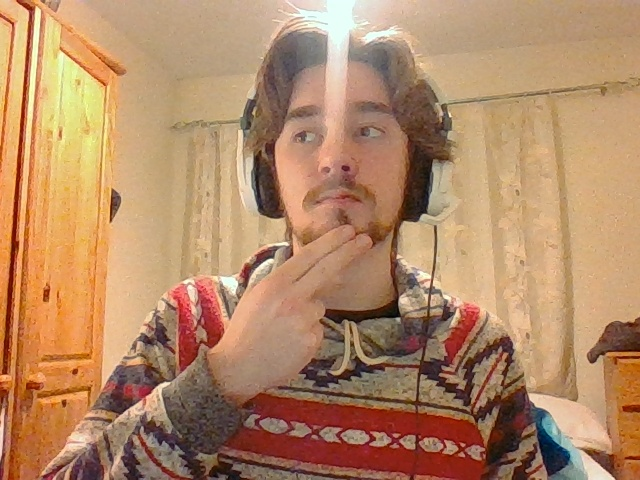afternoon: (209, 221, 374, 411)
